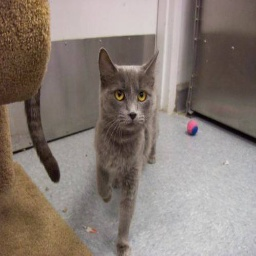cat: (90, 48, 162, 253)
